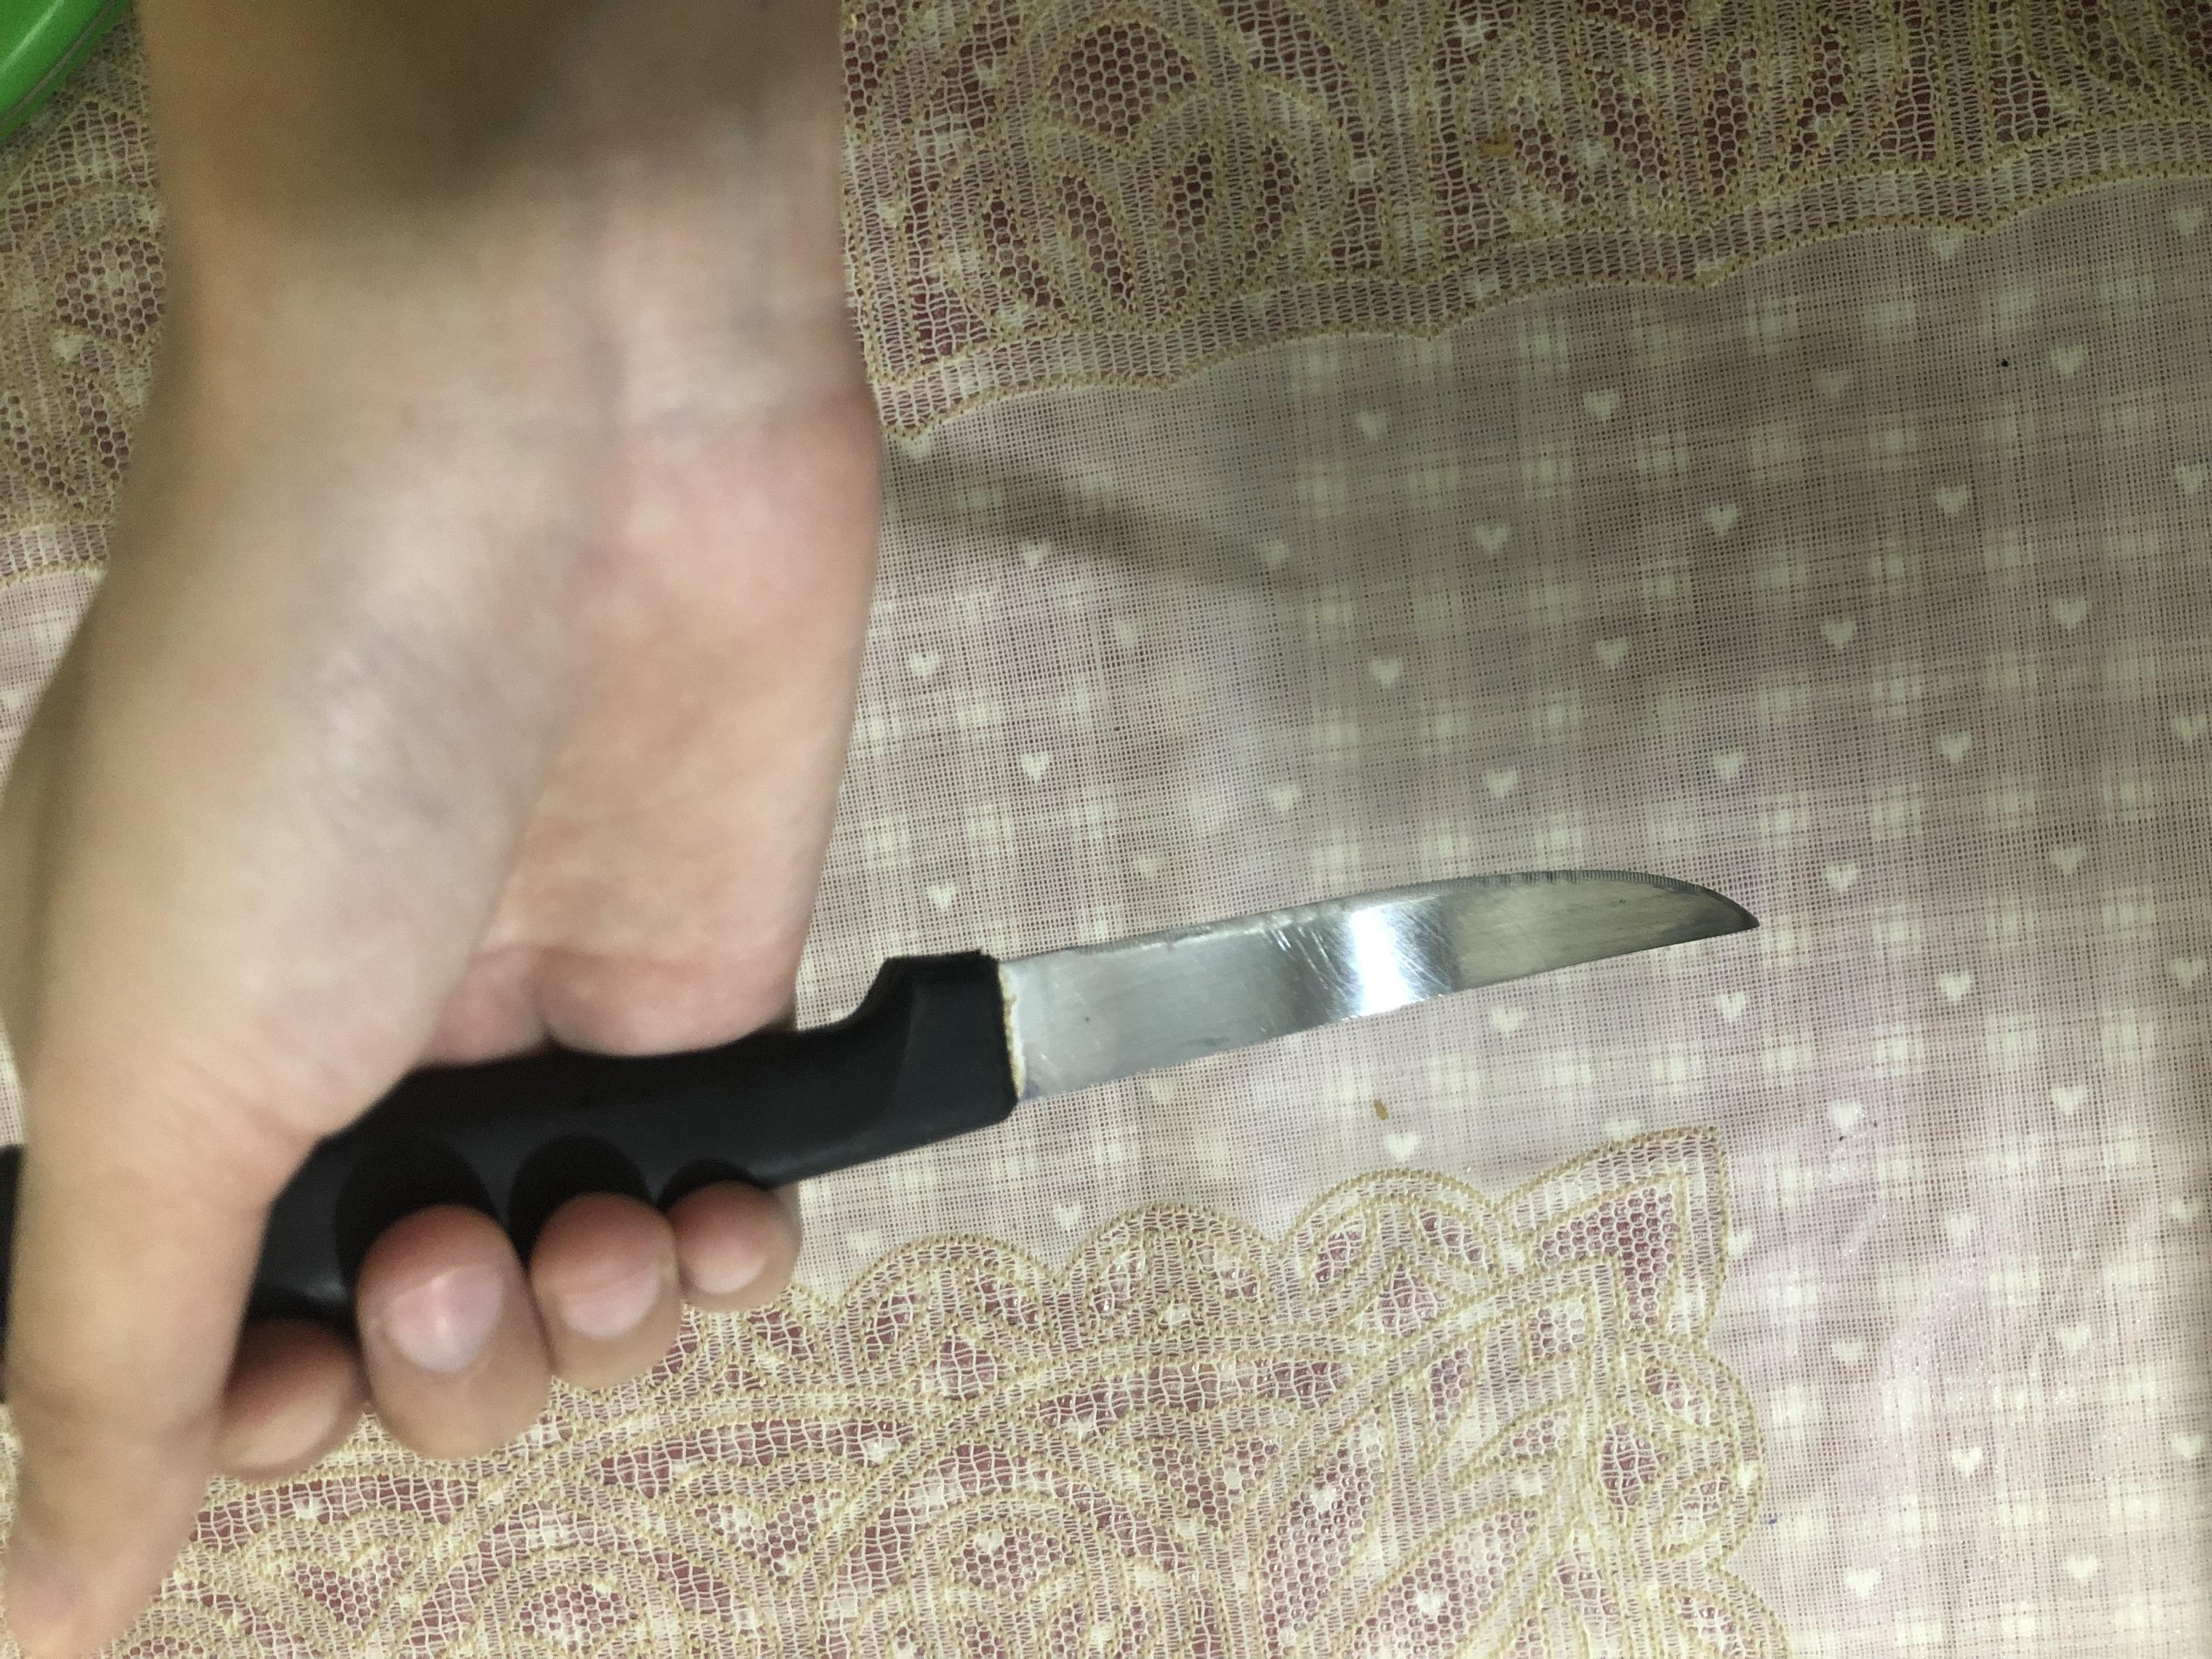weapon: (343, 0, 1047, 1319)
